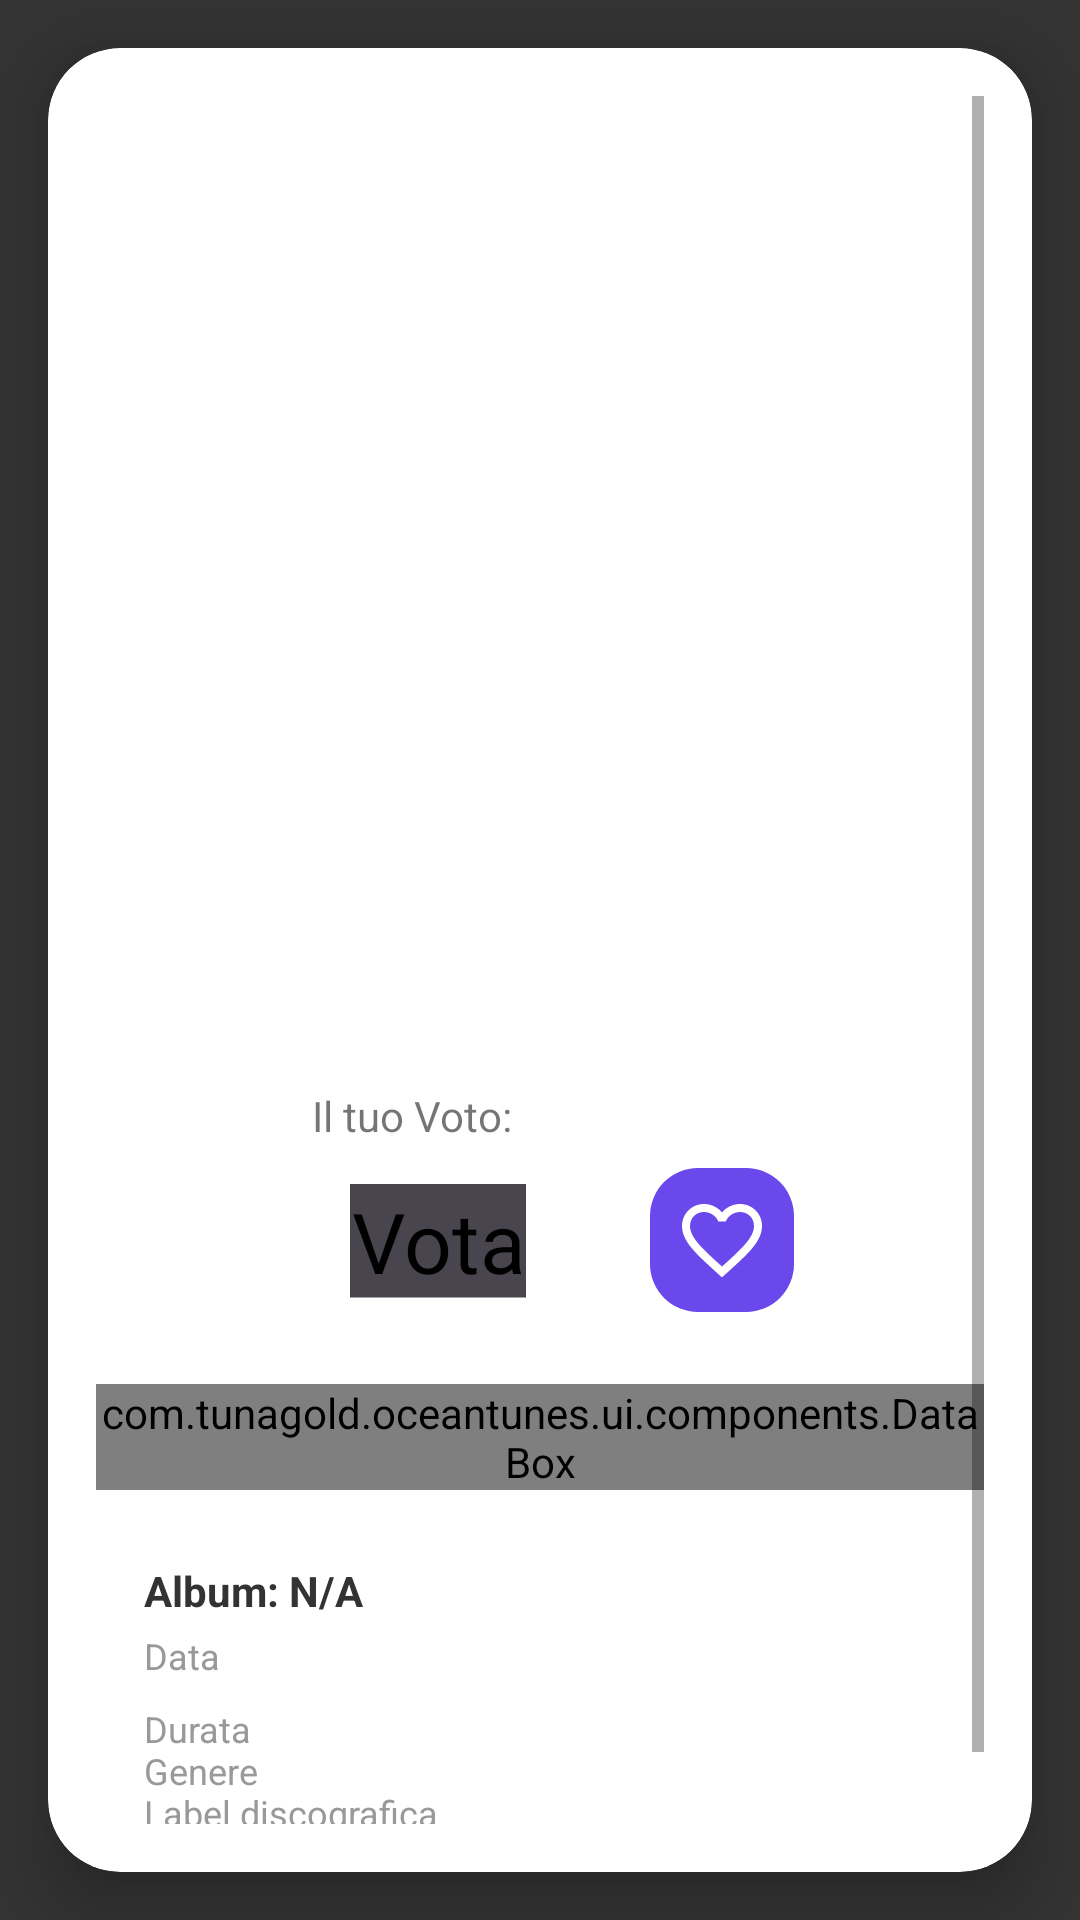

Named icons in this screenshot (1080px×1920px) and their centers, (x=x, y=y):
Aggiungi ai preferiti: (x=722, y=1240)
